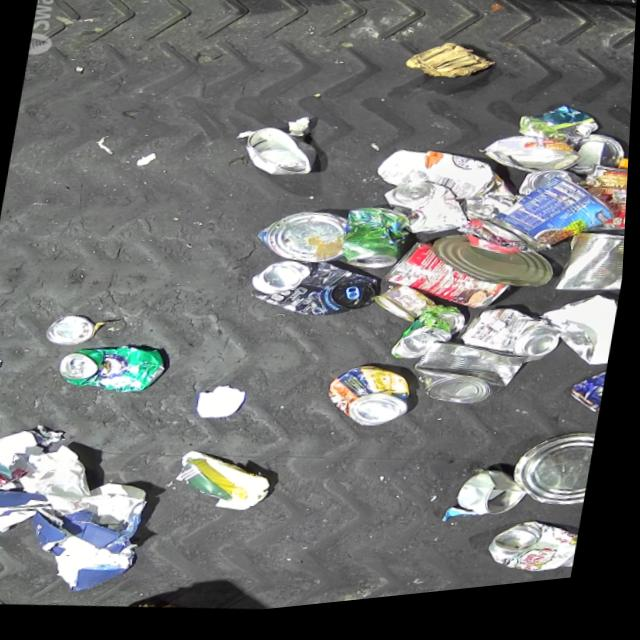can: (486, 177, 625, 278), (383, 238, 521, 330), (247, 253, 384, 335), (411, 340, 535, 425), (429, 233, 563, 309), (510, 437, 601, 527), (459, 309, 568, 383), (56, 337, 172, 406), (326, 365, 420, 443), (378, 183, 477, 254), (487, 524, 587, 594), (254, 209, 351, 277), (480, 138, 587, 194), (339, 210, 415, 284), (554, 238, 628, 311), (236, 126, 320, 190), (393, 308, 471, 376), (461, 473, 536, 533), (580, 174, 631, 252), (373, 287, 441, 338), (569, 142, 630, 193), (568, 366, 613, 429), (519, 176, 587, 214), (46, 311, 100, 351)
